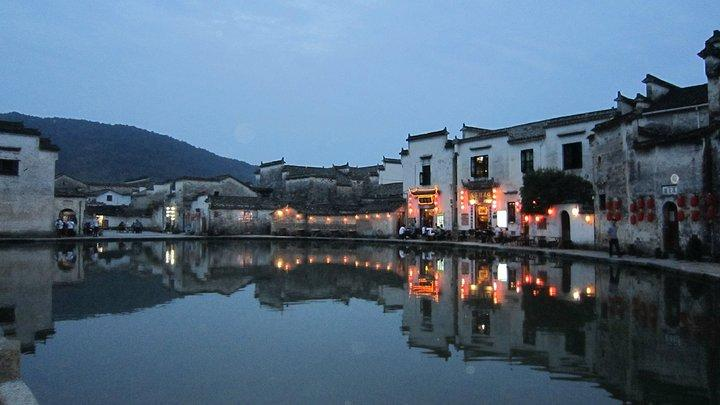mountain: (21, 108, 255, 187)
